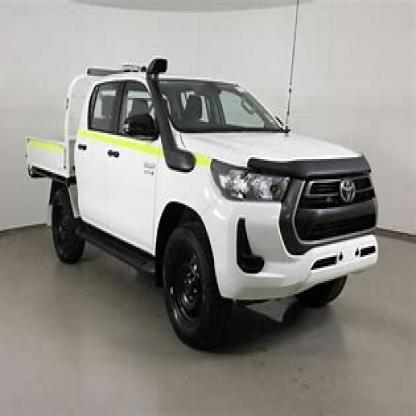light_vehicle: (22, 59, 384, 357)
